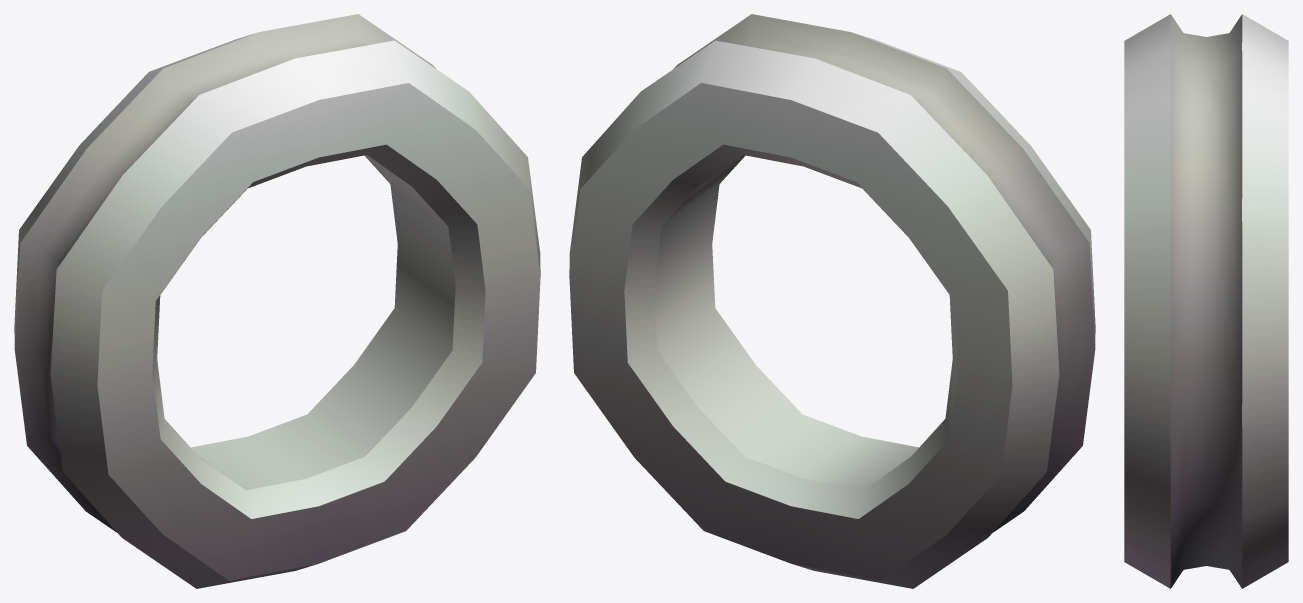
File: Silver_Ring_03.glb
3 views of the same model, side by side, from view 1: azimuth 30°, elevation 25°; view 2: azimuth 150°, elevation 25°; view 3: azimuth 270°, elevation 25° (orthographic).
Parts seen in each view (by area): view 1: Silver_Ring_03; view 2: Silver_Ring_03; view 3: Silver_Ring_03.
Boxes of the visible parts, x1=… form: Silver_Ring_03: x1=14, y1=14, x2=540, y2=588; Silver_Ring_03: x1=569, y1=14, x2=1095, y2=588; Silver_Ring_03: x1=1124, y1=14, x2=1288, y2=588.
Bounding box in the file's own units: 0.5035 × 0.5035 × 0.1478.
1 material, 1 textured.
